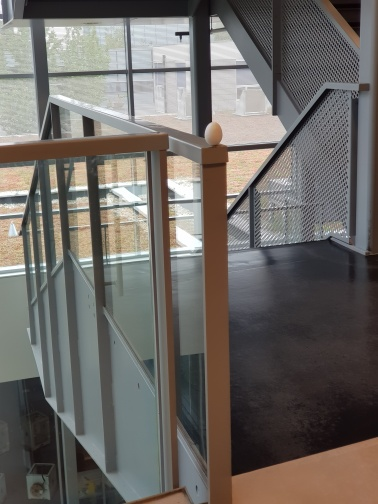egg: (202, 120, 225, 147)
